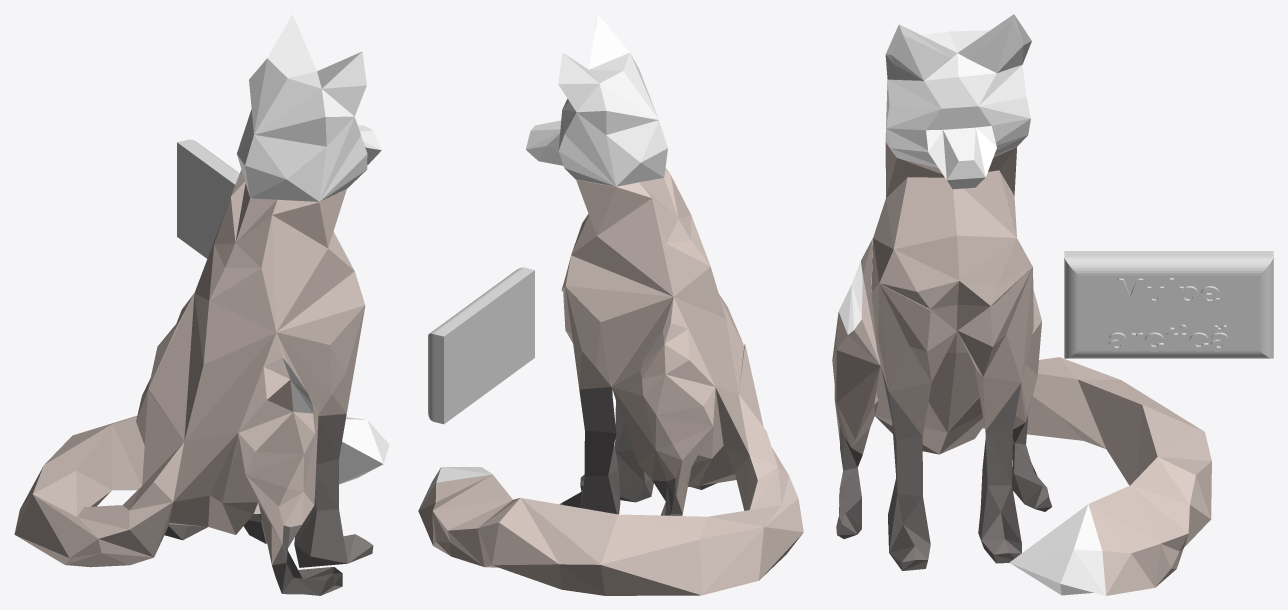
File: mare assets13.fbx
3 views of the same model, side by side, from view 1: azimuth 30°, elevation 25°; view 2: azimuth 150°, elevation 25°; view 3: azimuth 270°, elevation 25° (orthographic). The views are drawn at different scales.
Parts seen in each view (by area): view 1: model.003, Cube.012; view 2: model.003, Cube.012; view 3: model.003, Cube.012, Text.012.
Boxes of the visible parts, x1,y1,x2,y2 form: model.003: (14, 14, 389, 595); Cube.012: (177, 139, 239, 258); model.003: (418, 14, 803, 595); Cube.012: (428, 267, 534, 424); model.003: (832, 14, 1211, 595); Cube.012: (1064, 251, 1273, 358); Text.012: (1108, 278, 1228, 351).
Size of the model in its own units: 362 by 485 by 356.
